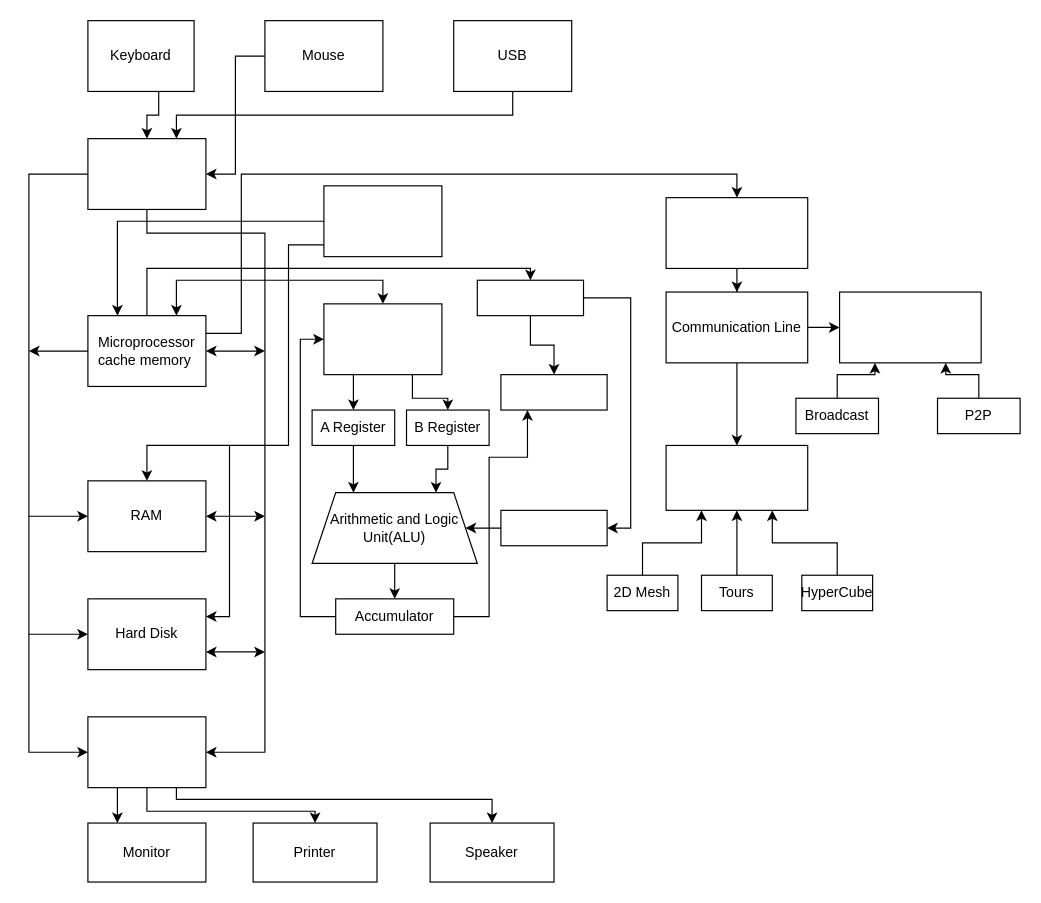
Image size: 1041x903. Some labels were removed from this diagram. The box of each missing label's shape, as (x1, y1, x2, y2) in pixels:
Input Port: (87, 137, 206, 209)
Instruction Pointer: (500, 373, 607, 410)
Instruction Register: (500, 509, 607, 546)
L1d Cache: (323, 303, 442, 375)
L1i Cache: (476, 279, 584, 316)
Memory Management Unit: (323, 185, 442, 257)
Network Topology: (665, 444, 808, 510)
Output Port: (87, 716, 206, 788)
Process: (665, 196, 808, 268)
Signal: (838, 291, 981, 363)
